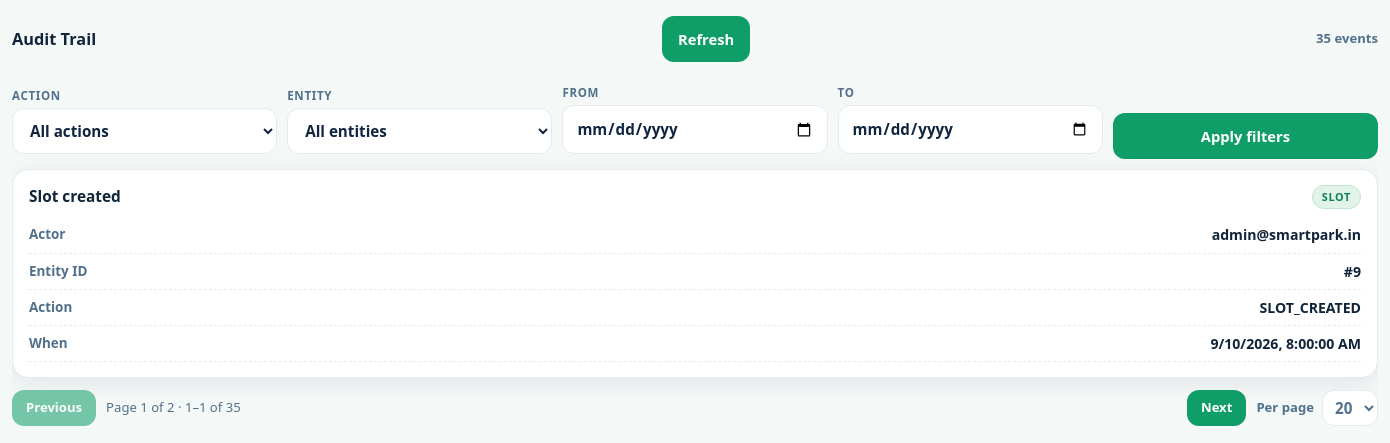
Test case: AdminAudit › resets to the first page when the page size changes
Select "50" in the dropdown labelled "Per page": (1350, 408) [1322,390,1378,426]
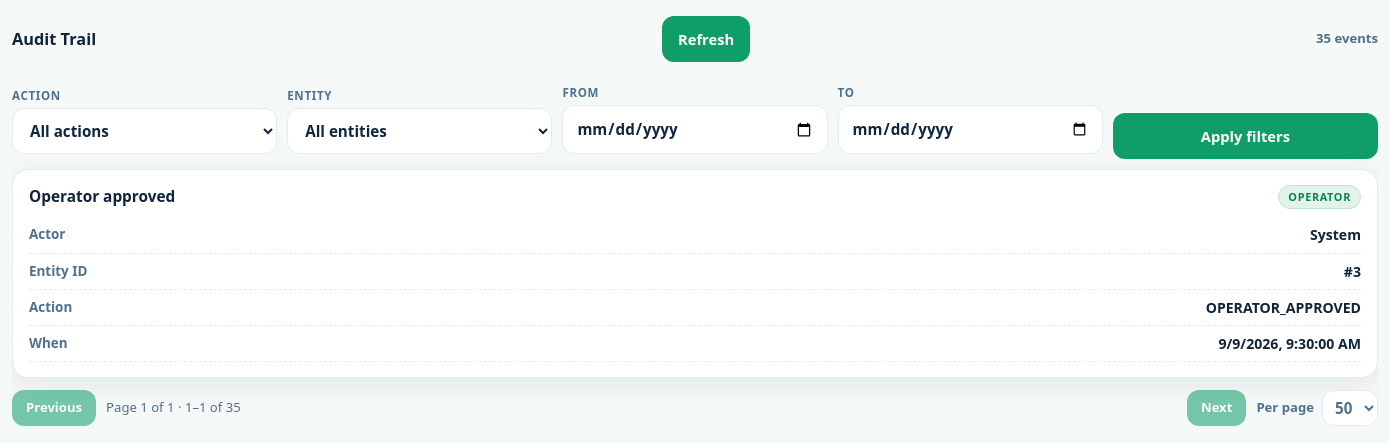
Expected: the text "1 of 1" is shown, [106,398,241,416]
